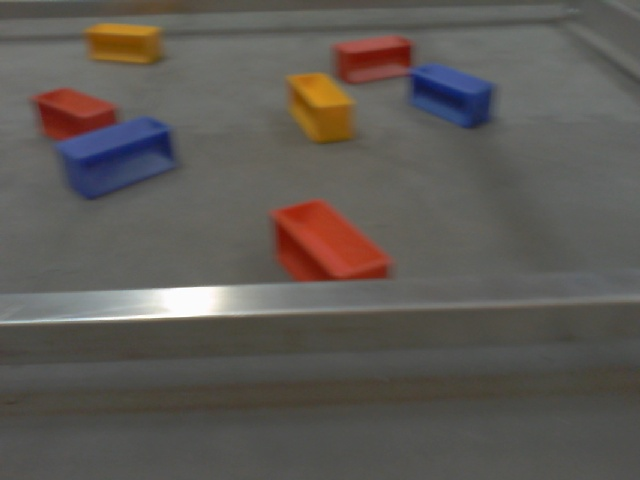BlueSample: (50, 116, 179, 201), (405, 60, 499, 134)
RedSample: (266, 194, 395, 282), (33, 86, 119, 142), (325, 34, 414, 85)
YellowSample: (282, 70, 357, 148), (85, 20, 166, 67)
